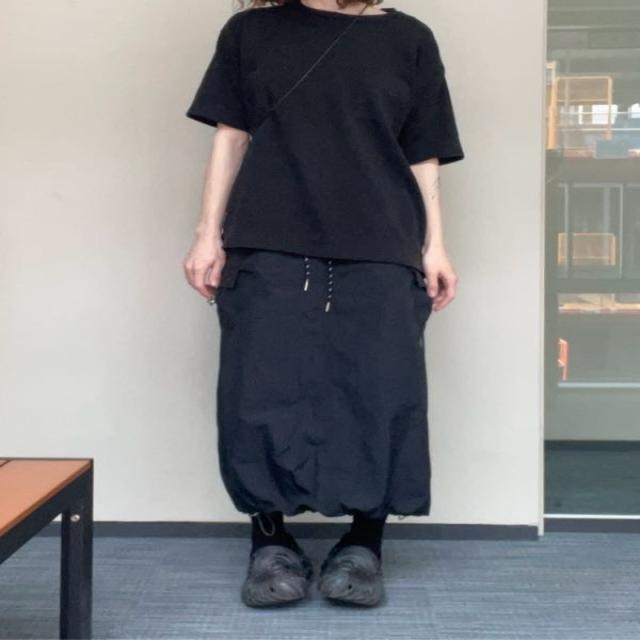shortsleeve: (188, 0, 464, 272)
skirt: (215, 248, 433, 521)
